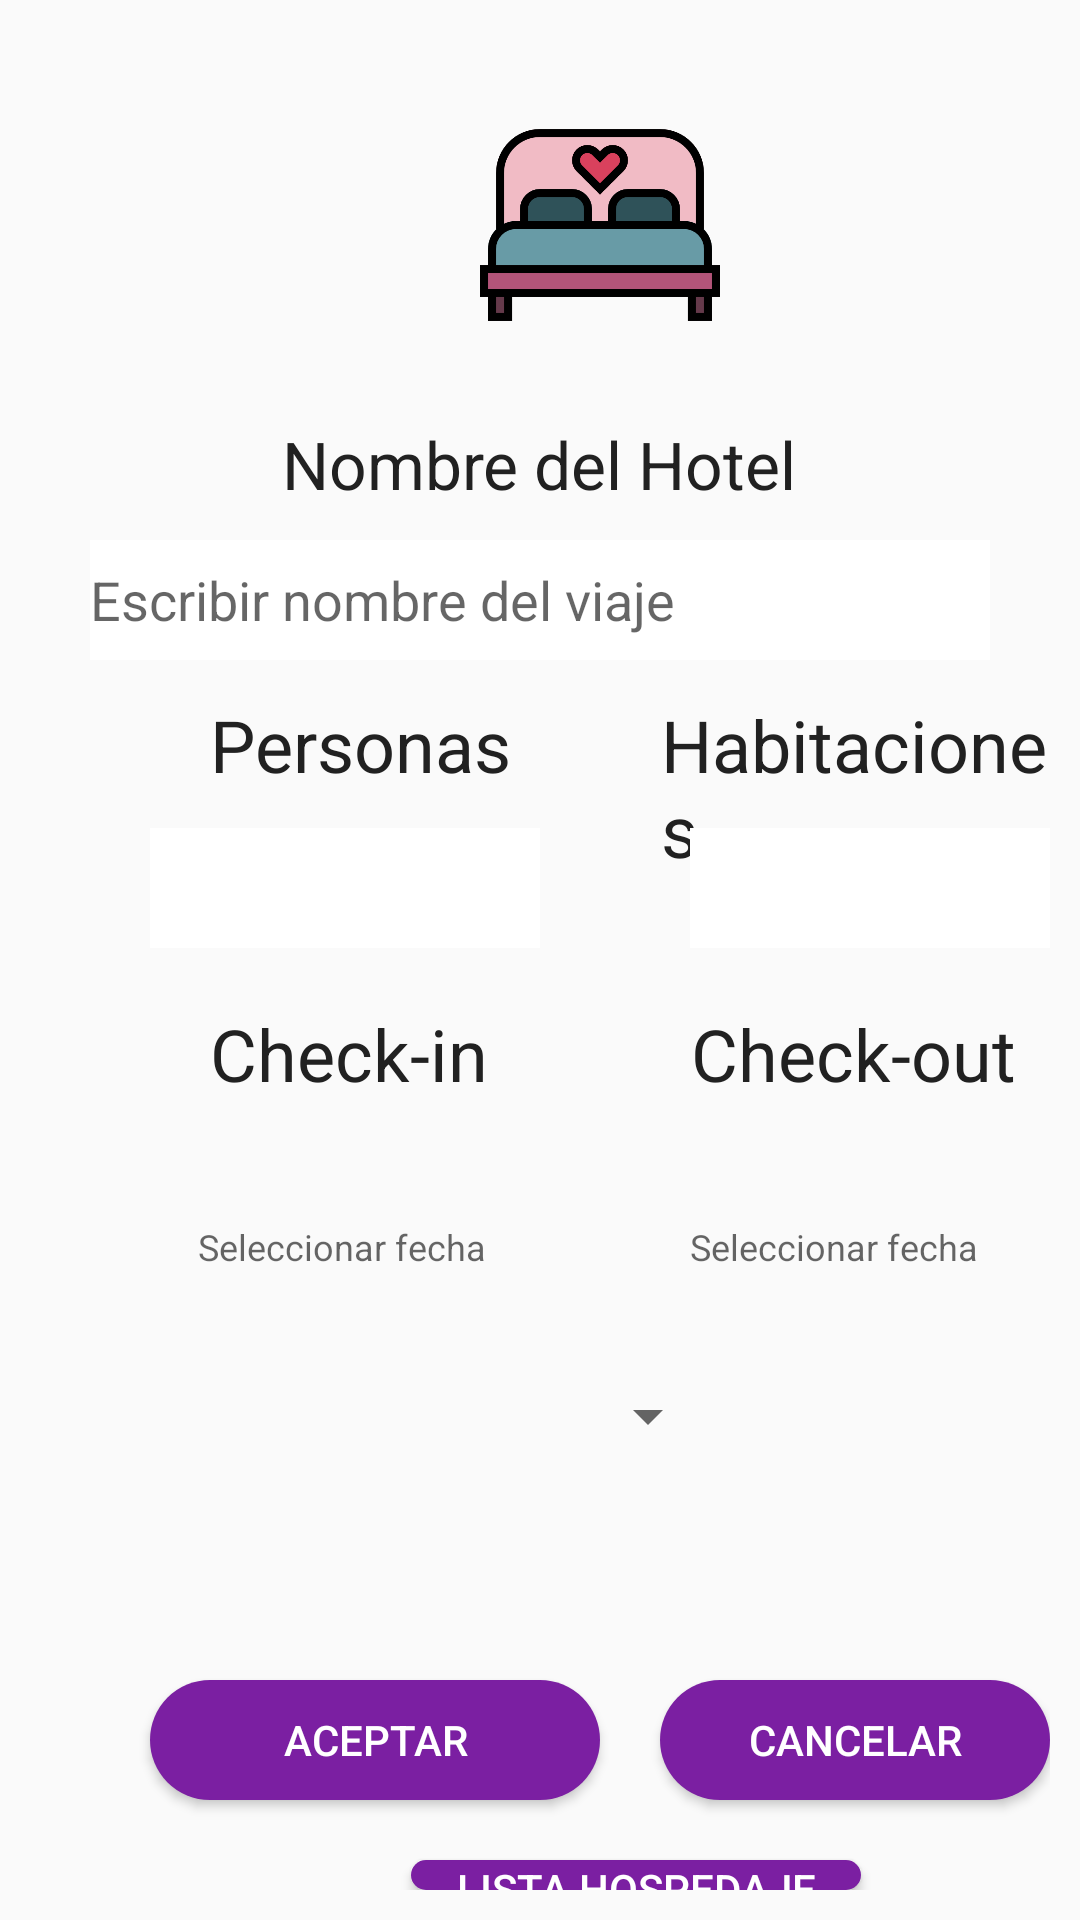

Point at icon controls on the screen. Image size 1080px x 1920px, points as (x,y).
hospedaje: (600,225)
